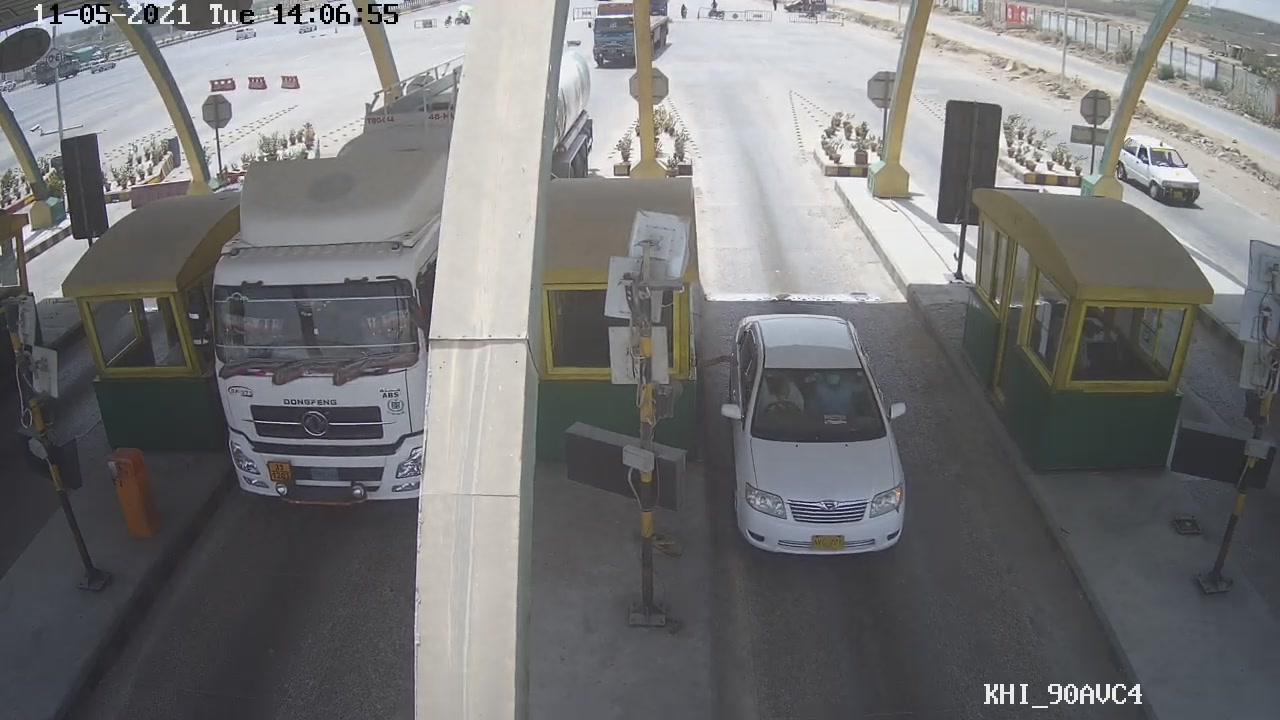F1: (720, 295, 911, 564)
